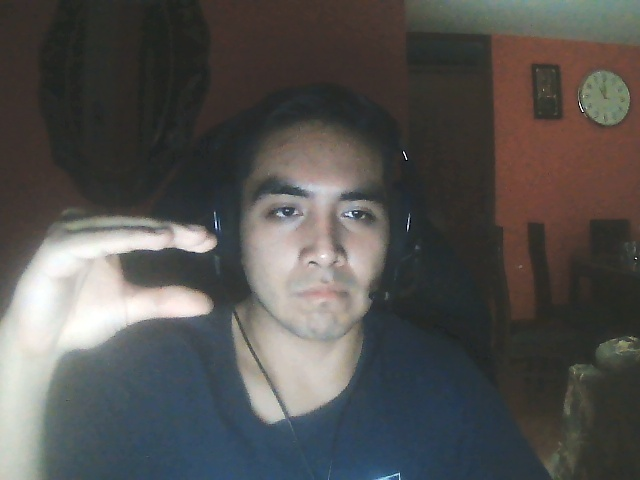no: (9, 205, 220, 354)
